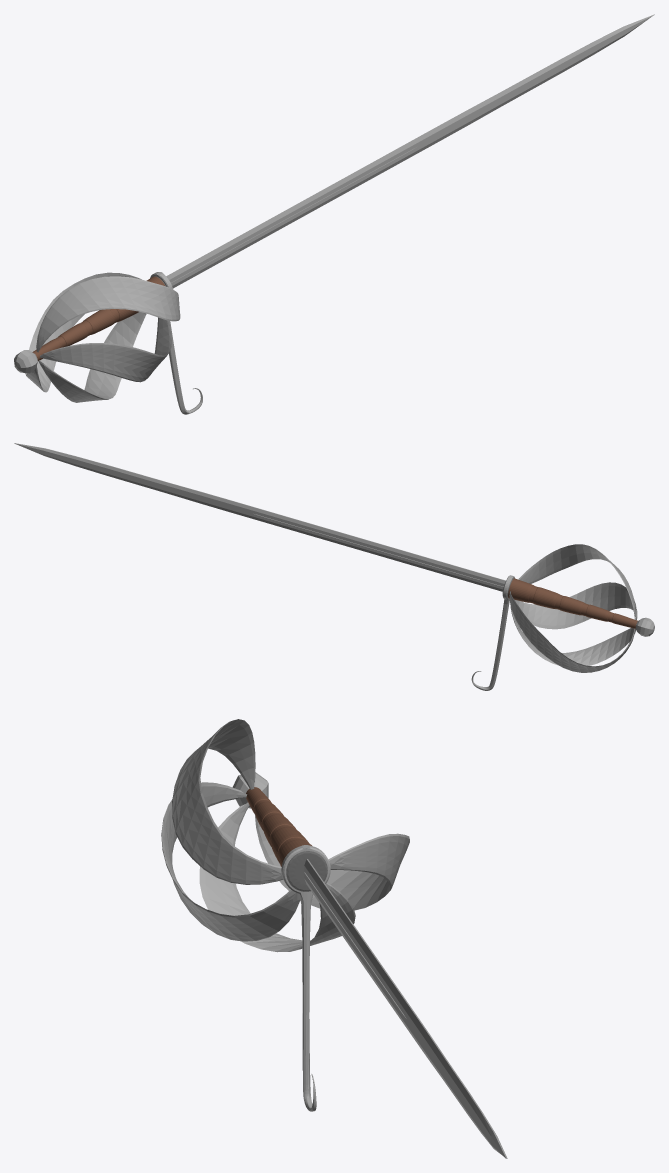
File: RapierAttackV2.fbx
3 renders of one model, top to bottom at view 1: azimuth 30°, elevation 25°; view 2: azimuth 150°, elevation 25°; view 3: azimuth 270°, elevation 25°, orthographic. The views are drawn at different scales.
Parts seen in each view (by area): view 1: pCylinder2; view 2: pCylinder2; view 3: pCylinder2.
Part boxes in pixels (bbox=[...]): pCylinder2: bbox=[14, 14, 654, 414]; pCylinder2: bbox=[14, 443, 654, 690]; pCylinder2: bbox=[161, 719, 507, 1158].
Bounding box in the file's own units: 2.87 × 0.8609 × 0.7479.
